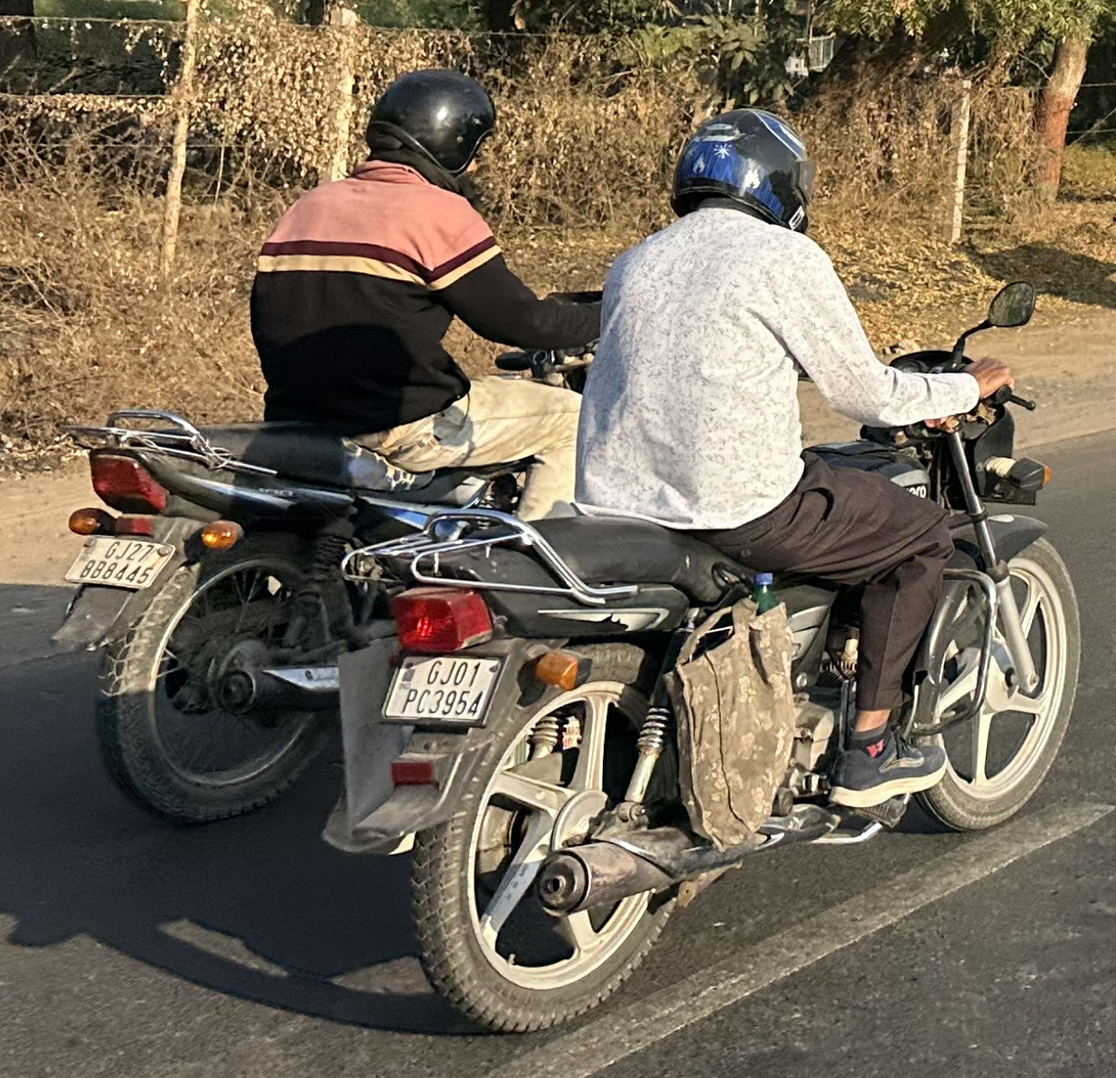BikeWithRider: (327, 100, 1087, 1041), (46, 63, 608, 834)
Helmet: (658, 105, 820, 240), (361, 66, 495, 200)
